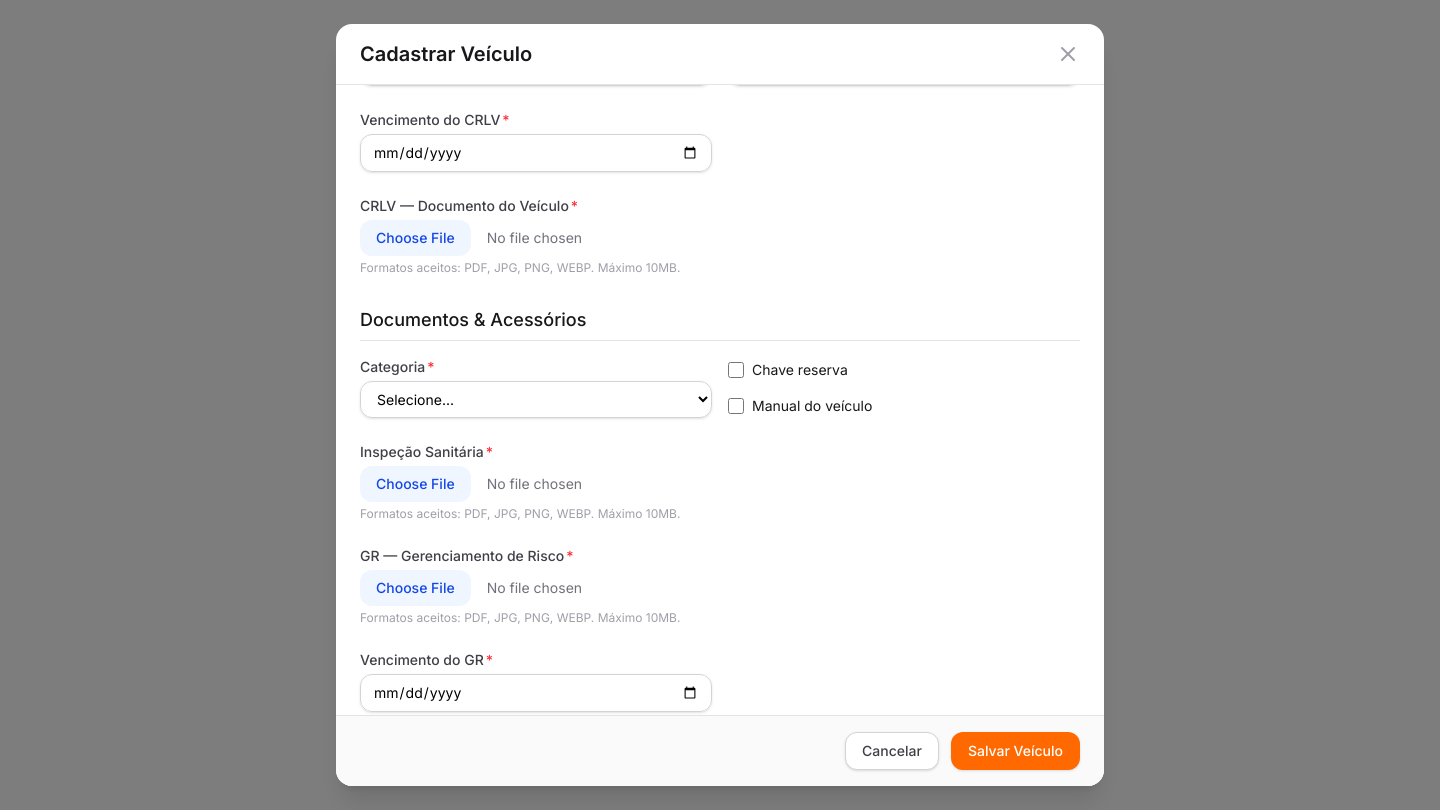
VehicleForm › updates the selected type to a valid option when category changes
(page scrolled)
Select "Médio" in the dropdown named "category" at (536, 400), box [360,381,712,418]
(page scrolled)
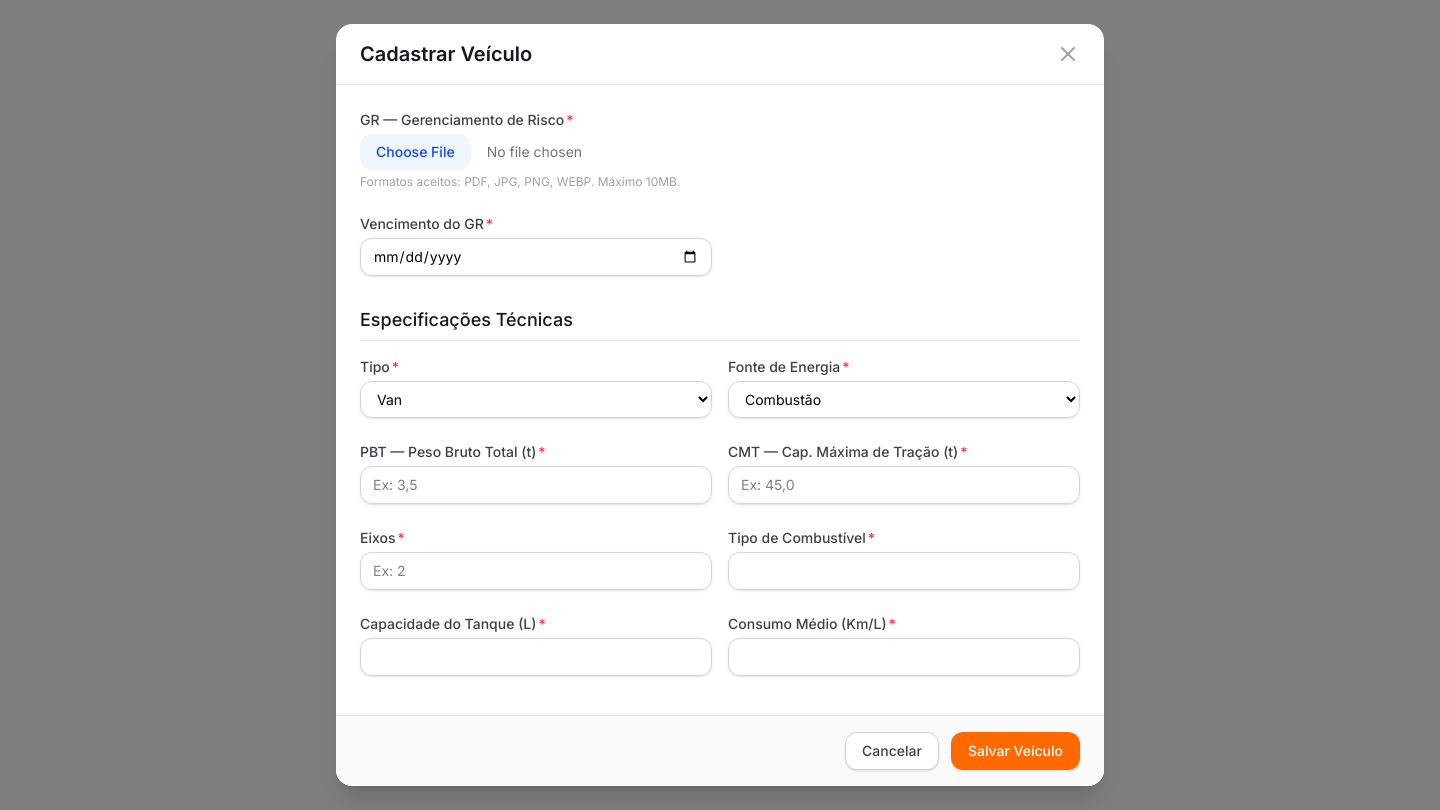
Check: the 1st dropdown named "type" shows "Van", box [360,381,712,418]
